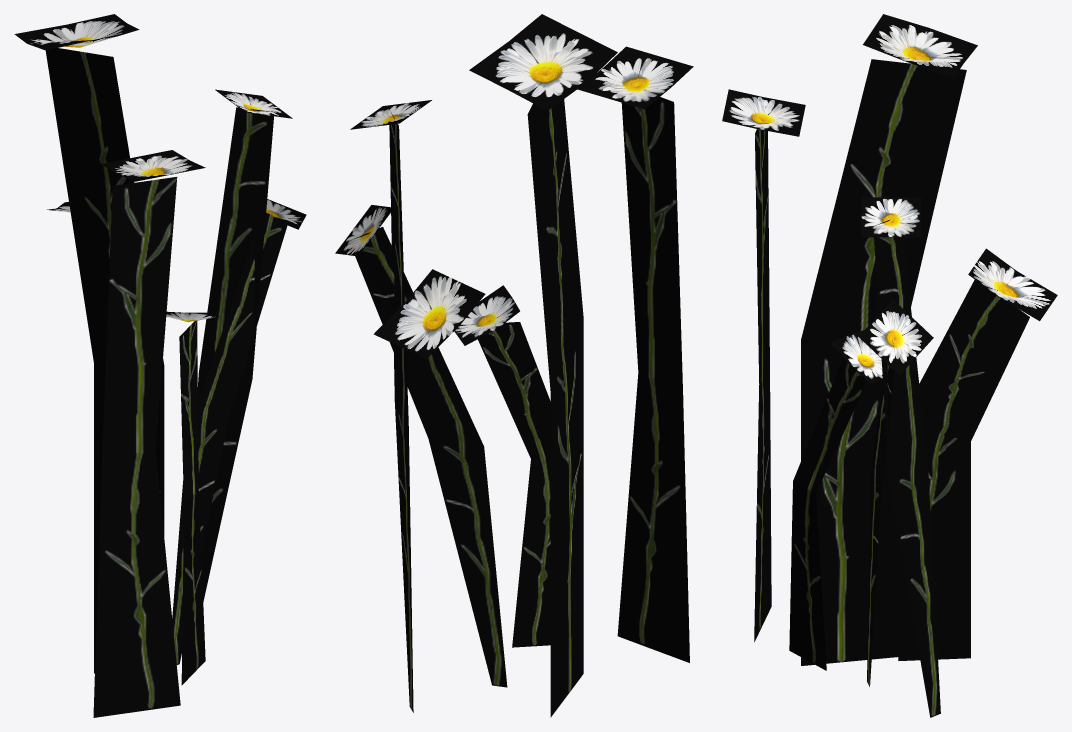
Rendered from 08_Leucanthemum_vulgare_02_medium_01_001.fbx.
The picture shows the model from 3 angles, left to right: view 1: azimuth 30°, elevation 25°; view 2: azimuth 150°, elevation 25°; view 3: azimuth 270°, elevation 25°; orthographic projection. The views are drawn at different scales.
Parts seen in each view (by area): view 1: 08_Leucanthemum_vulgare_02.medium_01.001; view 2: 08_Leucanthemum_vulgare_02.medium_01.001; view 3: 08_Leucanthemum_vulgare_02.medium_01.001.
Part boxes in pixels (left/top/right/bottom): 08_Leucanthemum_vulgare_02.medium_01.001: left=14, top=14, right=306, bottom=717; 08_Leucanthemum_vulgare_02.medium_01.001: left=335, top=14, right=693, bottom=717; 08_Leucanthemum_vulgare_02.medium_01.001: left=722, top=14, right=1057, bottom=717.
Size of the model in its own units: 0.1506 by 0.3477 by 0.1678.
